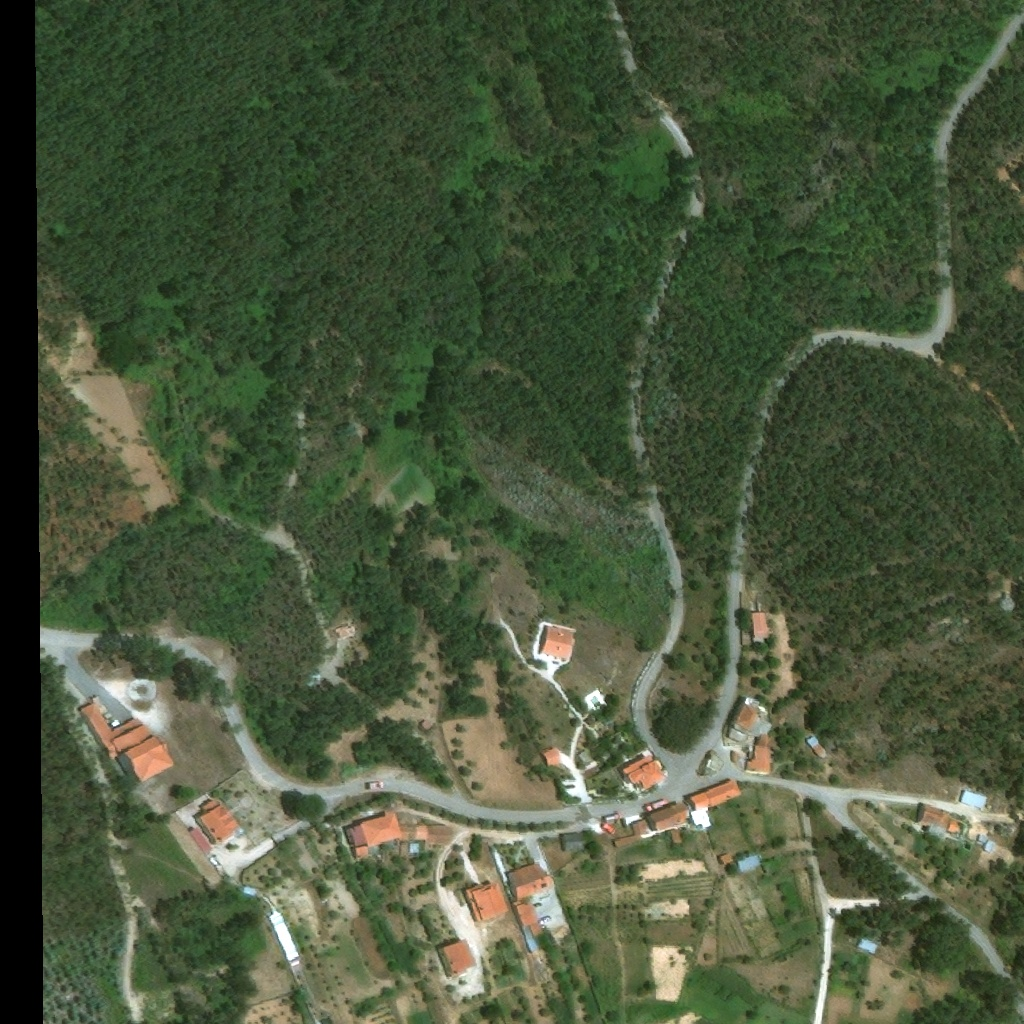0 no-damage: (75, 701, 176, 788), (688, 777, 743, 828), (347, 810, 403, 859), (726, 694, 774, 744), (616, 746, 667, 791), (459, 877, 507, 922), (396, 825, 455, 859), (195, 796, 238, 842), (515, 895, 547, 949), (507, 861, 550, 899), (268, 914, 299, 962), (921, 803, 964, 837), (649, 800, 693, 833), (442, 937, 478, 975), (744, 734, 776, 774), (509, 900, 534, 951), (612, 817, 650, 850), (539, 626, 573, 661), (805, 733, 830, 760), (703, 749, 727, 776), (193, 816, 215, 845), (561, 832, 590, 852), (188, 828, 210, 854), (961, 789, 989, 809), (974, 832, 998, 855), (736, 853, 763, 873), (341, 825, 356, 859), (752, 611, 770, 639), (436, 947, 452, 978), (331, 621, 354, 641), (855, 936, 879, 954), (505, 871, 518, 900), (535, 625, 546, 655), (731, 750, 746, 771), (575, 748, 590, 763), (419, 718, 432, 732), (917, 802, 925, 822), (719, 853, 733, 864)
